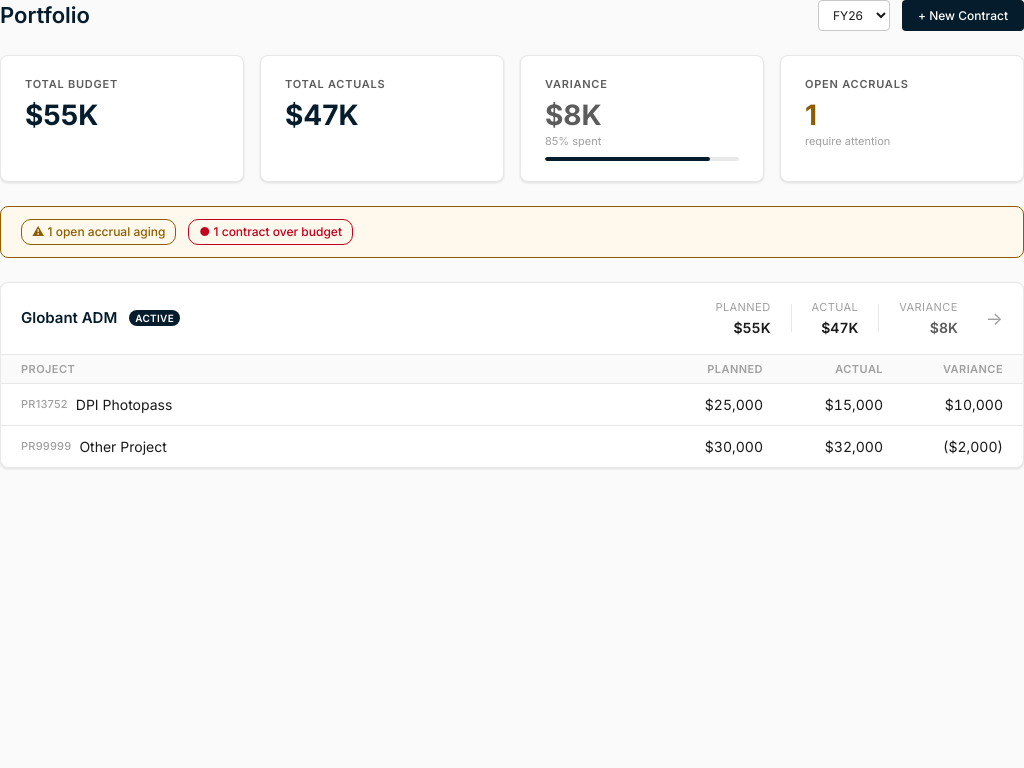
Scenario: Dashboard › clicking + New Contract opens drawer with Name and Vendor fields
Expected: the text "Globant ADM" is shown, [21,307,117,330]
Click the button "+ New Contract" at coordinates (963, 16), box [902,0,1023,31]
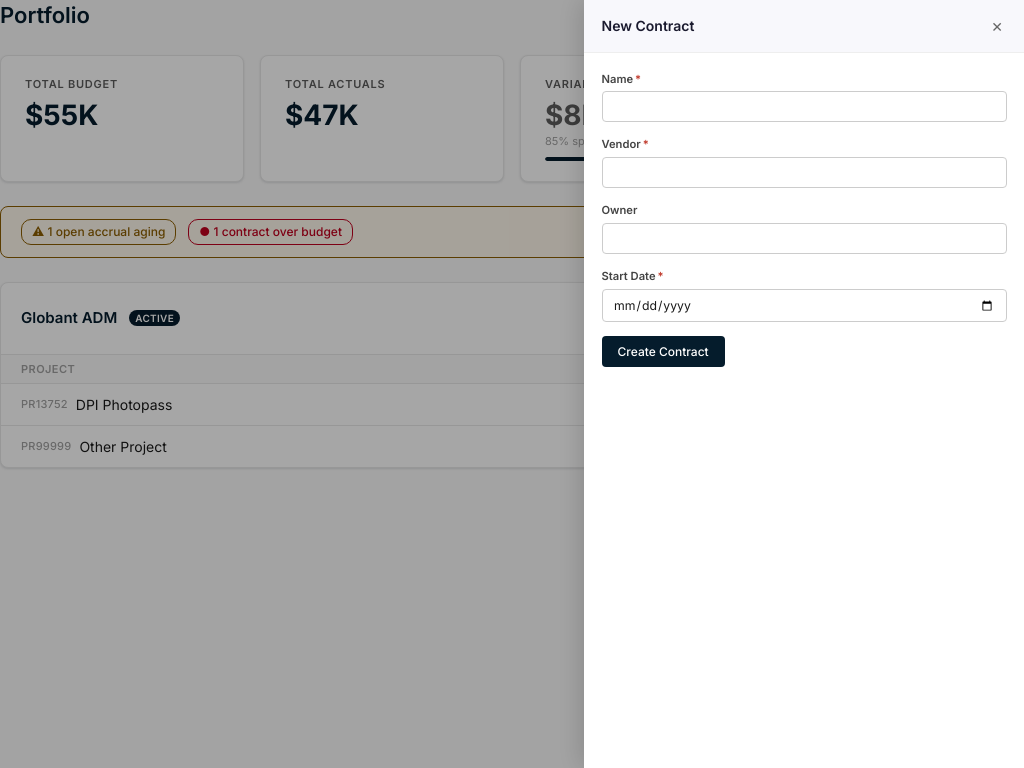
Result: the heading "New Contract" is shown at [602,18,694,34]
Result: the text "Name" is shown at [602,72,633,86]
Result: the text "Vendor" is shown at [602,138,641,152]
